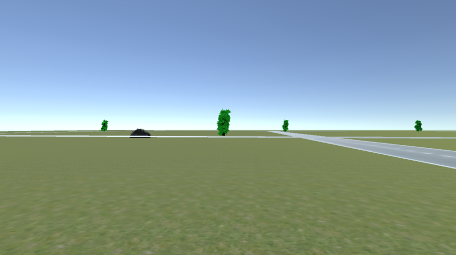rock: (130, 127, 152, 138)
tree: (217, 109, 231, 136), (100, 119, 109, 132), (282, 119, 290, 133), (414, 119, 422, 131)
